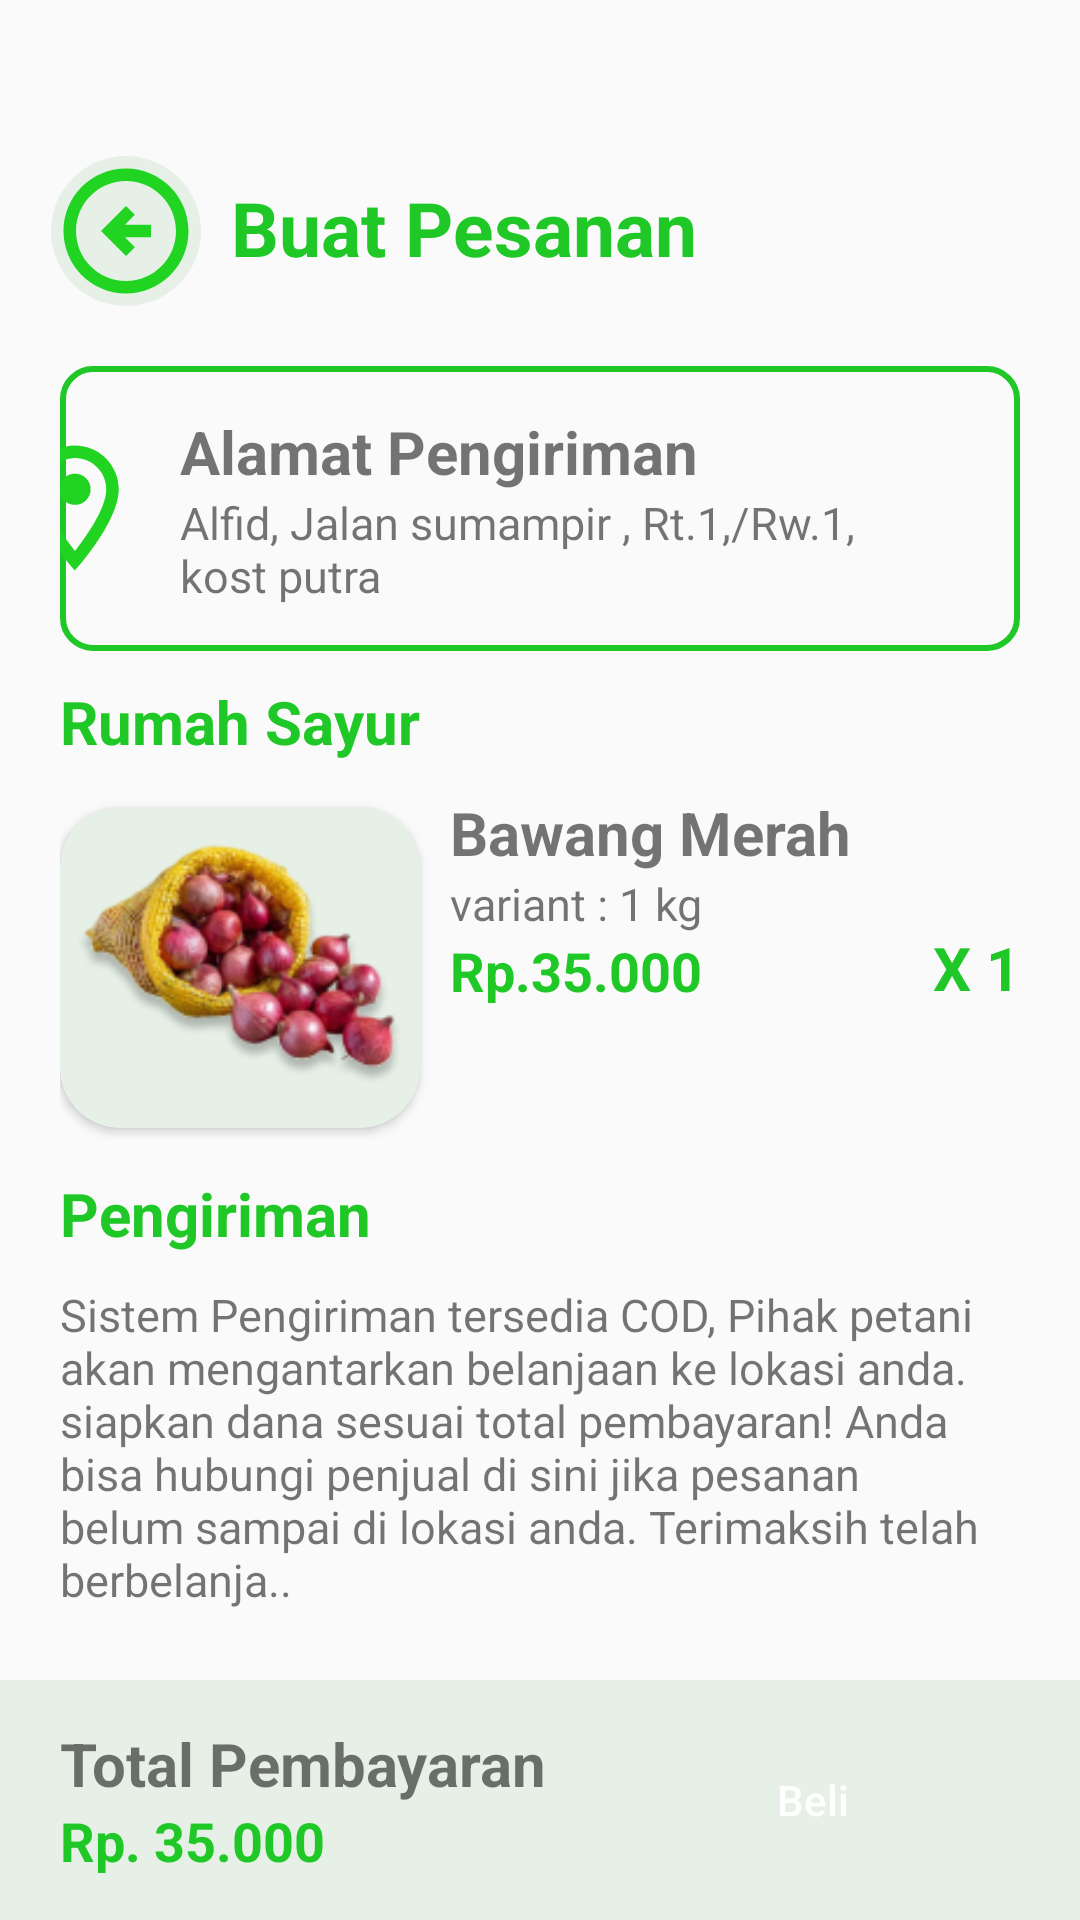

Screen size 1080px×1920px. Icon name, then its box in pixels as bbox=(x1, y1, x2, y2):
arrow circle left: bbox=(51, 156, 201, 306)
produk: bbox=(60, 807, 420, 1128)
